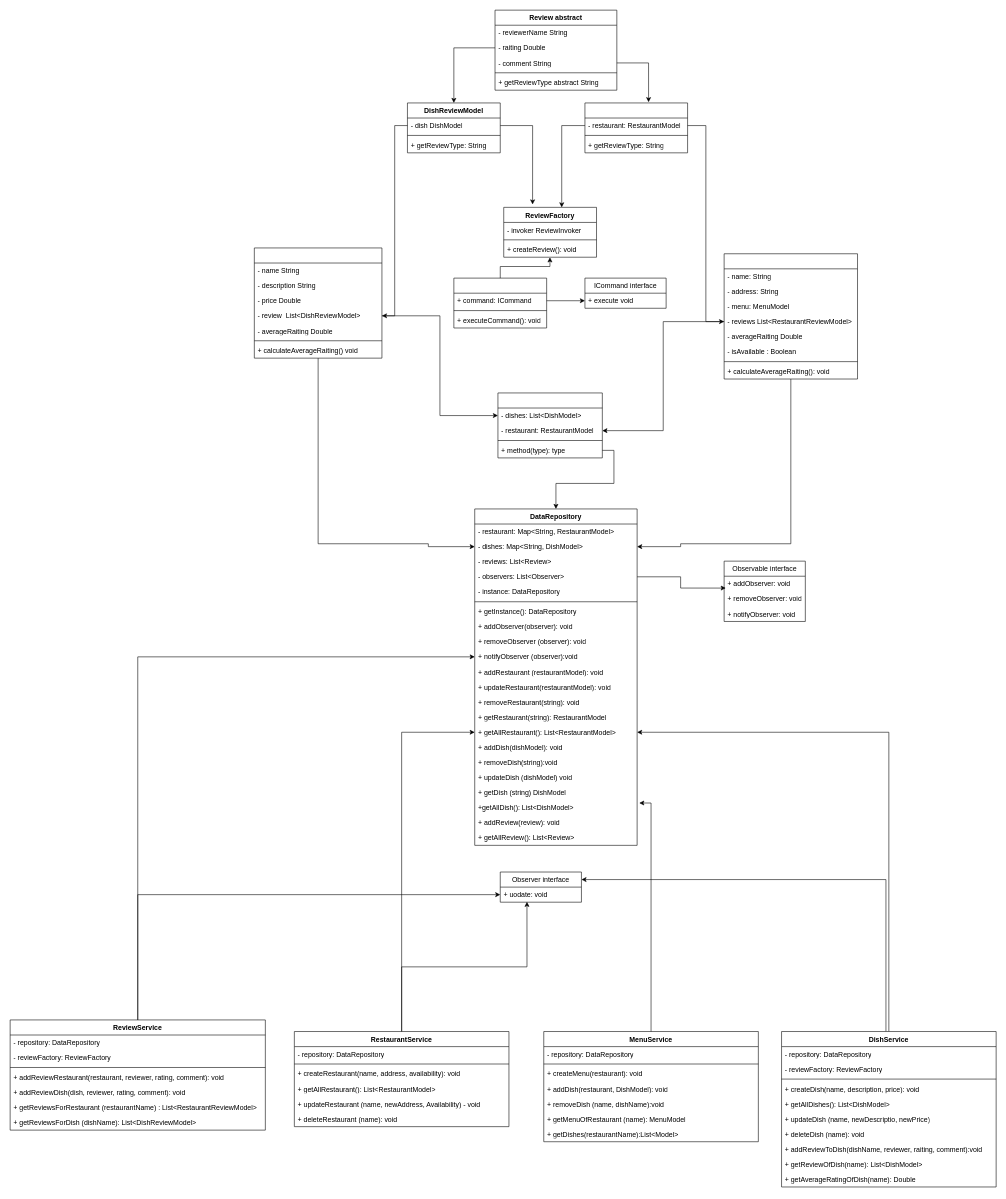
This 1006x1199 diagram has some shape labels left out. Here are the shapes that lost their labels. From the top down, the box of each, then its label:
(584, 102, 688, 153): RestaurantReviewModel
(254, 247, 382, 358): DishModel
(453, 278, 547, 328): ReviewIncoker
(724, 253, 858, 379): RestaudantModel
(497, 392, 602, 458): MenuModel
